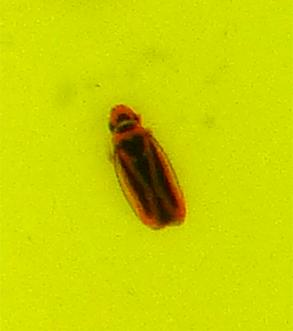Hemiptera: (100, 100, 193, 231)
